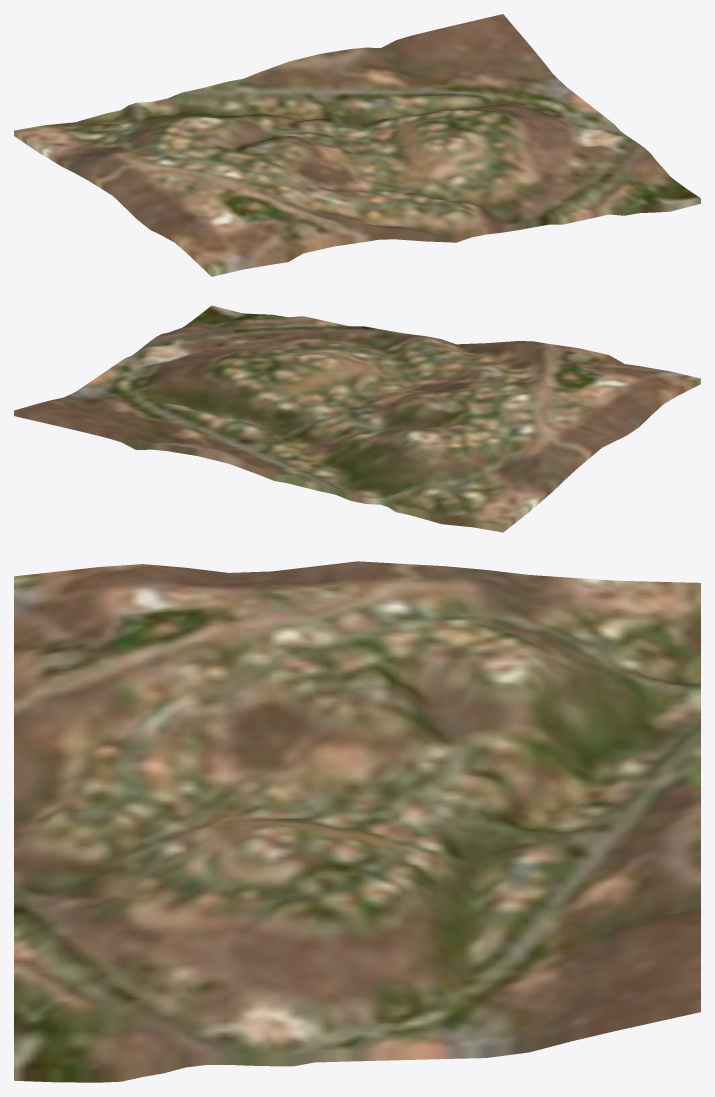
File: terrain_r0_c0_lod2.glb
The picture shows the model from 3 angles, top to bottom: view 1: azimuth 30°, elevation 25°; view 2: azimuth 150°, elevation 25°; view 3: azimuth 270°, elevation 25°; orthographic projection. The views are drawn at different scales.
Visible parts, largest first — view 1: terrain_r0_c0_lod2; view 2: terrain_r0_c0_lod2; view 3: terrain_r0_c0_lod2.
Boxes of the visible parts, x1,y1,x2,y2 form: terrain_r0_c0_lod2: (14, 14, 700, 276); terrain_r0_c0_lod2: (14, 305, 700, 532); terrain_r0_c0_lod2: (14, 561, 700, 1082).
Bounding box in the file's own units: 1125 × 150 × 787.
1 material, 1 textured.
